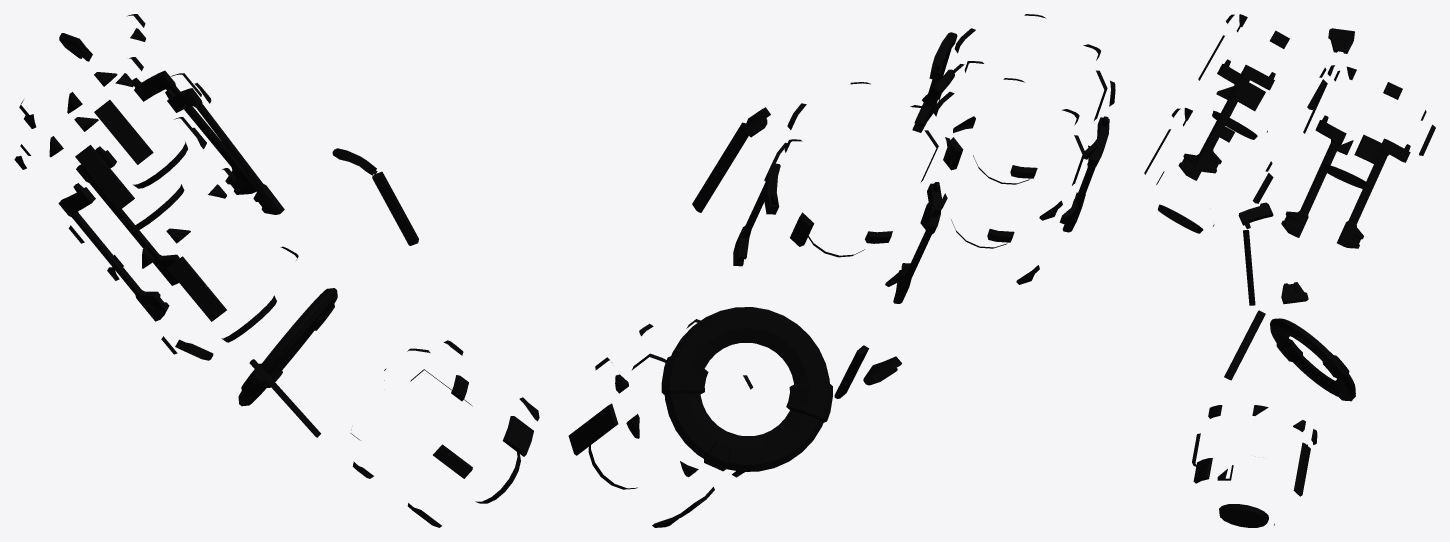
Rendered from env_container_01_04.glb.
The picture shows the model from 3 angles, left to right: view 1: azimuth 30°, elevation 25°; view 2: azimuth 150°, elevation 25°; view 3: azimuth 270°, elevation 25°; orthographic projection. The views are drawn at different scales.
Parts seen in each view (by area): view 1: env_container_01_03_LOD0 (×2), env_container_01_ring (1), env_container_01_01_LOD0, env_container_01_02_LOD0, env_container_01_connector (3), env_container_01_connector (2), env_container_01_connector (4), env_container_01_connector (1), env_container_01_connector_broken_02 (1), env_container_01_connector_broken_02 (2); view 2: env_container_01_ring (1), env_container_01_03_LOD0 (×2), env_container_01_01_LOD0, env_container_01_02_LOD0, env_container_01_connector (2), env_container_01_connector (1), env_container_01_connector_broken_02 (1), env_container_01_connector (3), env_container_01_connector (4); view 3: env_container_01_03_LOD0 (×2), env_container_01_ring (1), env_container_01_01_LOD0, env_container_01_connector (4), env_container_01_connector (2), env_container_01_connector (1), env_container_01_02_LOD0, env_container_01_connector (3), env_container_01_connector_broken_02 (2), env_container_01_connector_broken_03 (2), env_container_01_connector_broken_02 (1), env_container_01_connector_broken_01 (1) (+1 smaller).
Boxes of the visible parts, bbox=[...] form: env_container_01_03_LOD0 (×2): bbox=[14, 14, 211, 243]; env_container_01_ring (1): bbox=[238, 288, 337, 406]; env_container_01_01_LOD0: bbox=[350, 340, 539, 527]; env_container_01_02_LOD0: bbox=[107, 168, 298, 354]; env_container_01_connector (3): bbox=[58, 183, 169, 321]; env_container_01_connector (2): bbox=[132, 70, 257, 194]; env_container_01_connector (4): bbox=[165, 88, 284, 214]; env_container_01_connector (1): bbox=[76, 146, 179, 285]; env_container_01_connector_broken_02 (1): bbox=[372, 171, 418, 245]; env_container_01_connector_broken_02 (2): bbox=[249, 359, 320, 437]; env_container_01_ring (1): bbox=[661, 307, 832, 471]; env_container_01_03_LOD0 (×2): bbox=[764, 14, 1115, 286]; env_container_01_01_LOD0: bbox=[568, 319, 753, 527]; env_container_01_02_LOD0: bbox=[920, 78, 1090, 284]; env_container_01_connector (2): bbox=[733, 163, 780, 266]; env_container_01_connector (1): bbox=[893, 182, 941, 303]; env_container_01_connector_broken_02 (1): bbox=[692, 122, 748, 212]; env_container_01_connector (3): bbox=[1062, 116, 1109, 232]; env_container_01_connector (4): bbox=[912, 32, 957, 132]; env_container_01_03_LOD0 (×2): bbox=[1198, 14, 1435, 188]; env_container_01_ring (1): bbox=[1270, 318, 1355, 401]; env_container_01_01_LOD0: bbox=[1192, 405, 1317, 527]; env_container_01_connector (4): bbox=[1192, 65, 1275, 173]; env_container_01_connector (2): bbox=[1337, 138, 1410, 248]; env_container_01_connector (1): bbox=[1281, 115, 1346, 237]; env_container_01_02_LOD0: bbox=[1144, 107, 1273, 233]; env_container_01_connector (3): bbox=[1178, 59, 1249, 180]; env_container_01_connector_broken_02 (2): bbox=[1224, 310, 1265, 380]; env_container_01_connector_broken_03 (2): bbox=[1328, 28, 1354, 53]; env_container_01_connector_broken_02 (1): bbox=[1243, 230, 1255, 305]; env_container_01_connector_broken_01 (1): bbox=[1238, 202, 1273, 229].
Size of what is drawn, in the model's own units: 5.4 by 5.61 by 3.75.
Materials: 1 (1 with a texture image).
